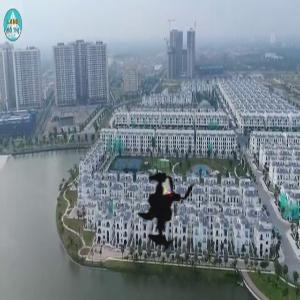drone: (110, 152, 230, 272)
